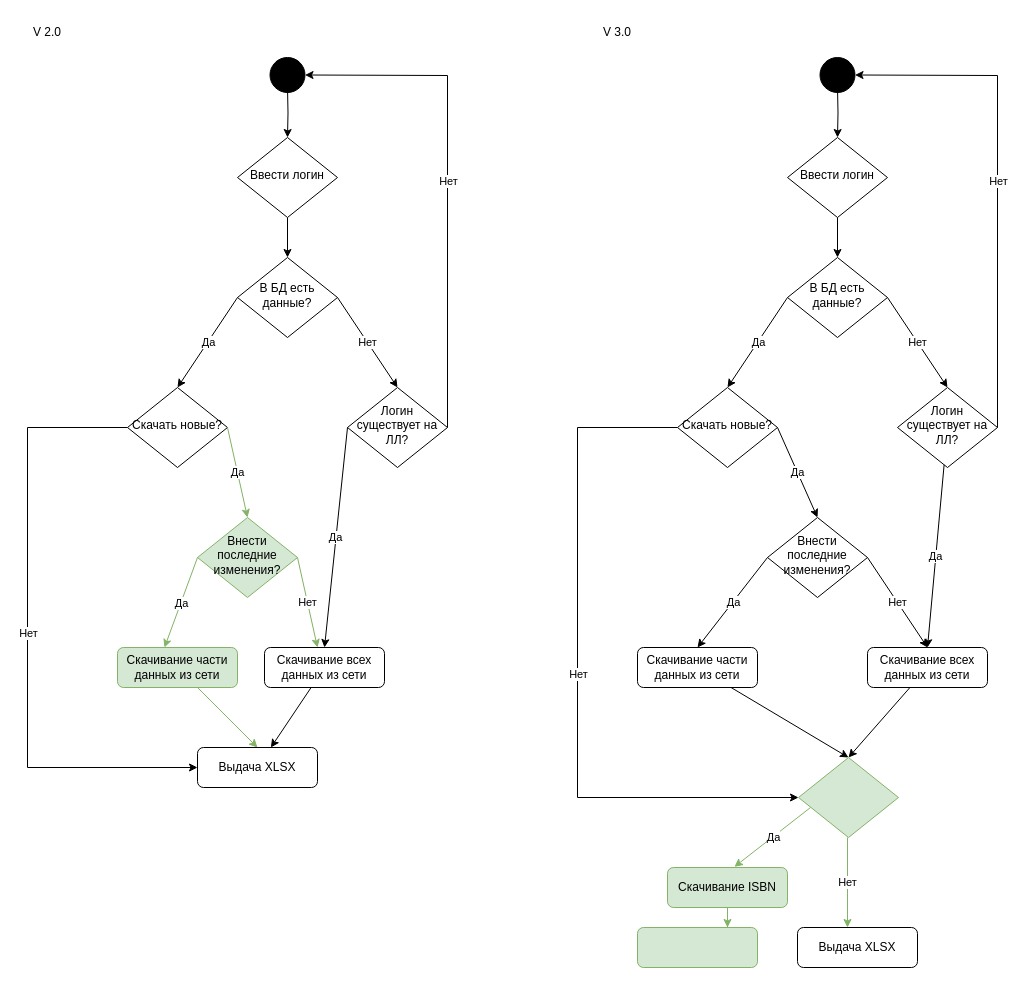
Some shapes in this 1024 by 985 pixel diagram are drawn without their labels. The box of each missing label's shape, as (x1, y1, x2, y2) in pixels:
Выдача CSV: (636, 926, 758, 968)
Для экспорта в GoodReads?: (798, 756, 898, 838)
